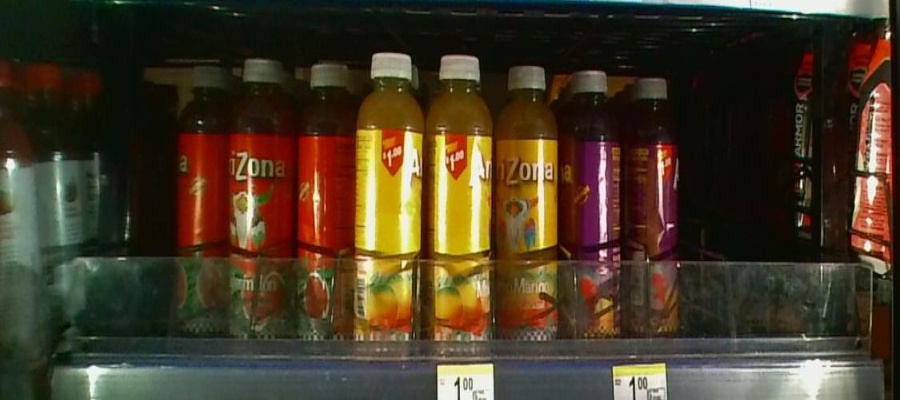bottle: (357, 52, 422, 373), (230, 53, 296, 358), (427, 52, 495, 347), (560, 59, 623, 352), (497, 56, 558, 342), (173, 64, 231, 337), (301, 57, 353, 360), (625, 64, 682, 337)
